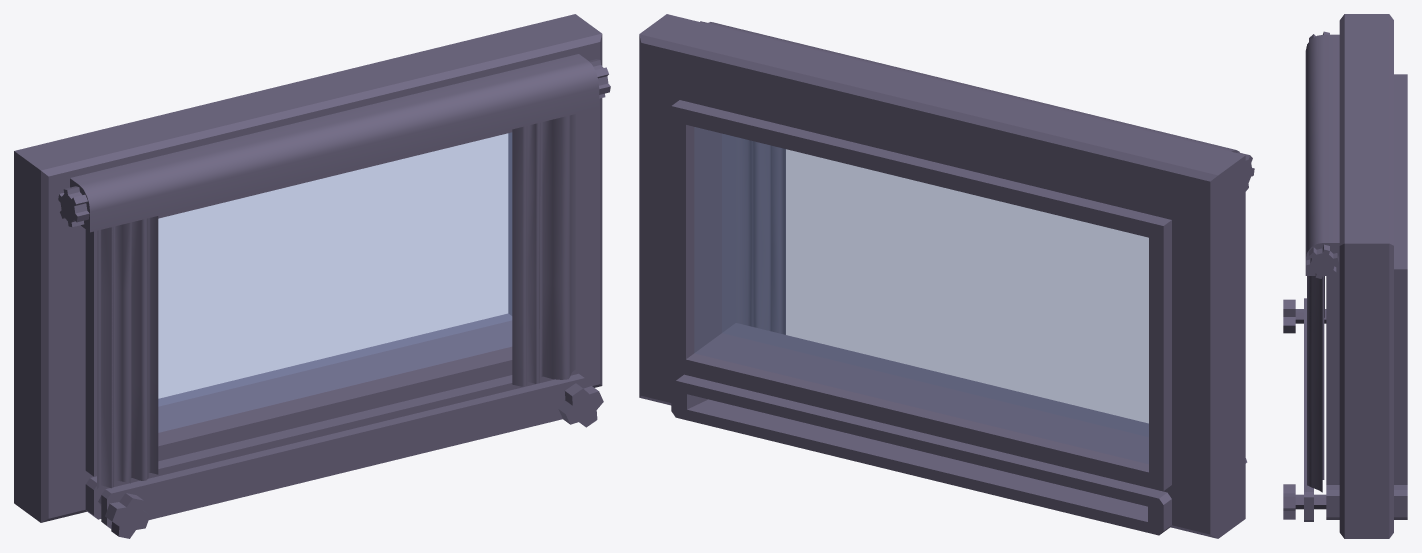
File: obj_decor_windowcurtain_off.fbx
3 renders of one model, left to right at view 1: azimuth 30°, elevation 25°; view 2: azimuth 150°, elevation 25°; view 3: azimuth 270°, elevation 25°, orthographic. The views are drawn at different scales.
Visible parts, largest first — view 1: obj_questdecor_windowcurtain_off, obj_questdecor_windowcurtain_off2; view 2: obj_questdecor_windowcurtain_off, obj_questdecor_windowcurtain_off2; view 3: obj_questdecor_windowcurtain_off, obj_questdecor_windowcurtain_off2.
Boxes of the visible parts, x1=… form: obj_questdecor_windowcurtain_off: x1=14, y1=14, x2=610, y2=538; obj_questdecor_windowcurtain_off2: x1=97, y1=114, x2=575, y2=488; obj_questdecor_windowcurtain_off: x1=639, y1=14, x2=1254, y2=538; obj_questdecor_windowcurtain_off2: x1=736, y1=137, x2=785, y2=334; obj_questdecor_windowcurtain_off: x1=1283, y1=14, x2=1407, y2=538; obj_questdecor_windowcurtain_off2: x1=1307, y1=276, x2=1324, y2=492.
Bounding box in the file's own units: 10 × 6.03 × 2.29.
